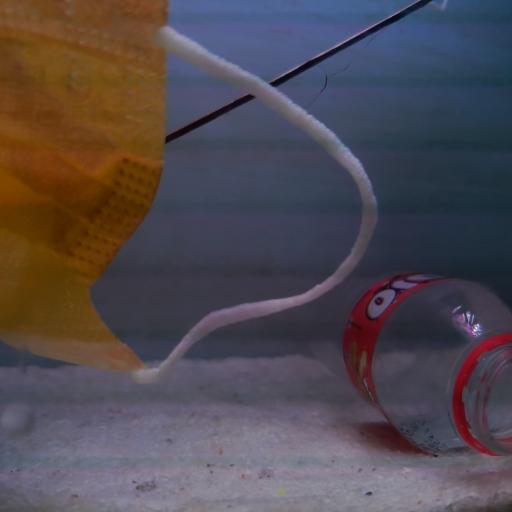mask: (2, 2, 379, 398)
plastic_bottle: (301, 267, 512, 463)
